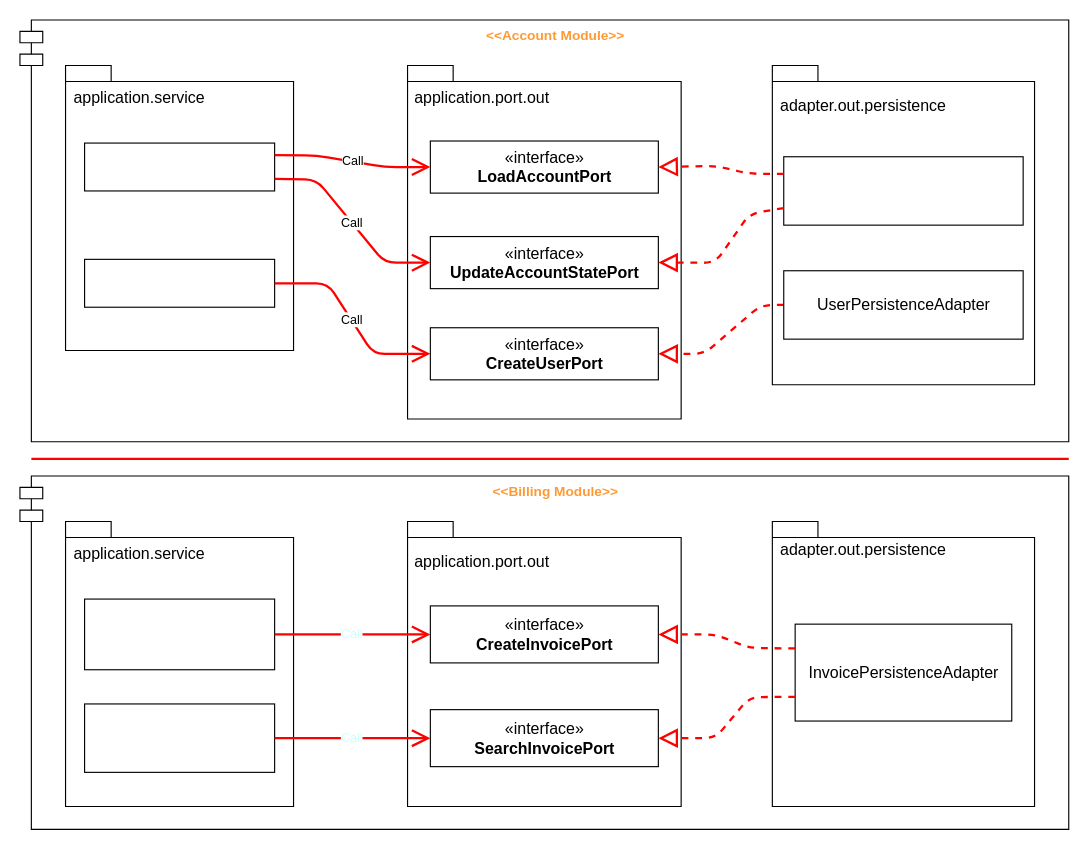
The diagram is 1091 pixels wide and 849 high, and some of its shapes have lost their labels. Each missing label, with the centre of its shape:
"AccountPersistenceAdapter" goes at (903,190).
"CreateMonthly InvoiceService" goes at (179,634).
"RegisterUserService" goes at (179,282).
"SearchUser InvoiceService" goes at (179,737).
"SendMoneyService" goes at (179,166).
